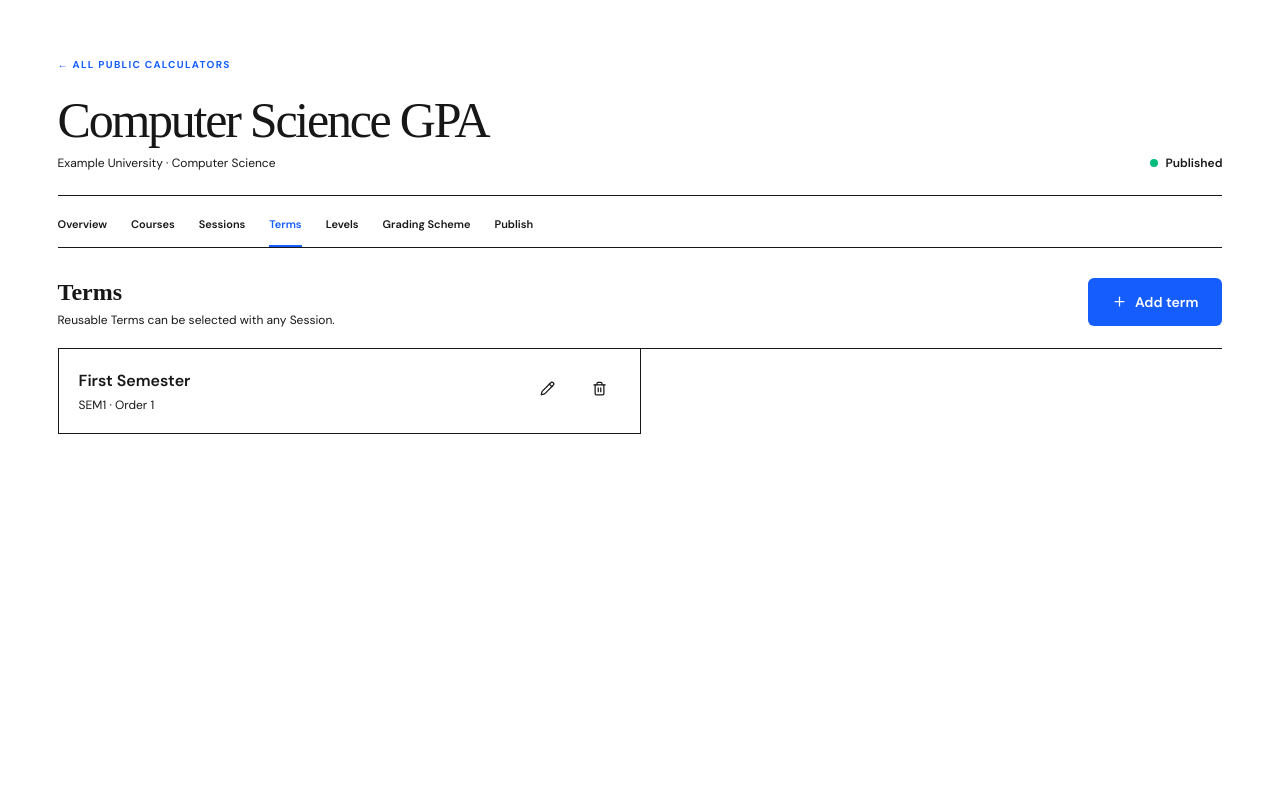
Scenario: public calculator management › uses reusable calculator-level Terms and retains a referenced Term after a 409
Expected: the text "Reusable Terms can be selected with any Session." is shown, [58,312,335,328]
Click the button named "Delete First Semester" at (600,389), box [580,369,620,409]
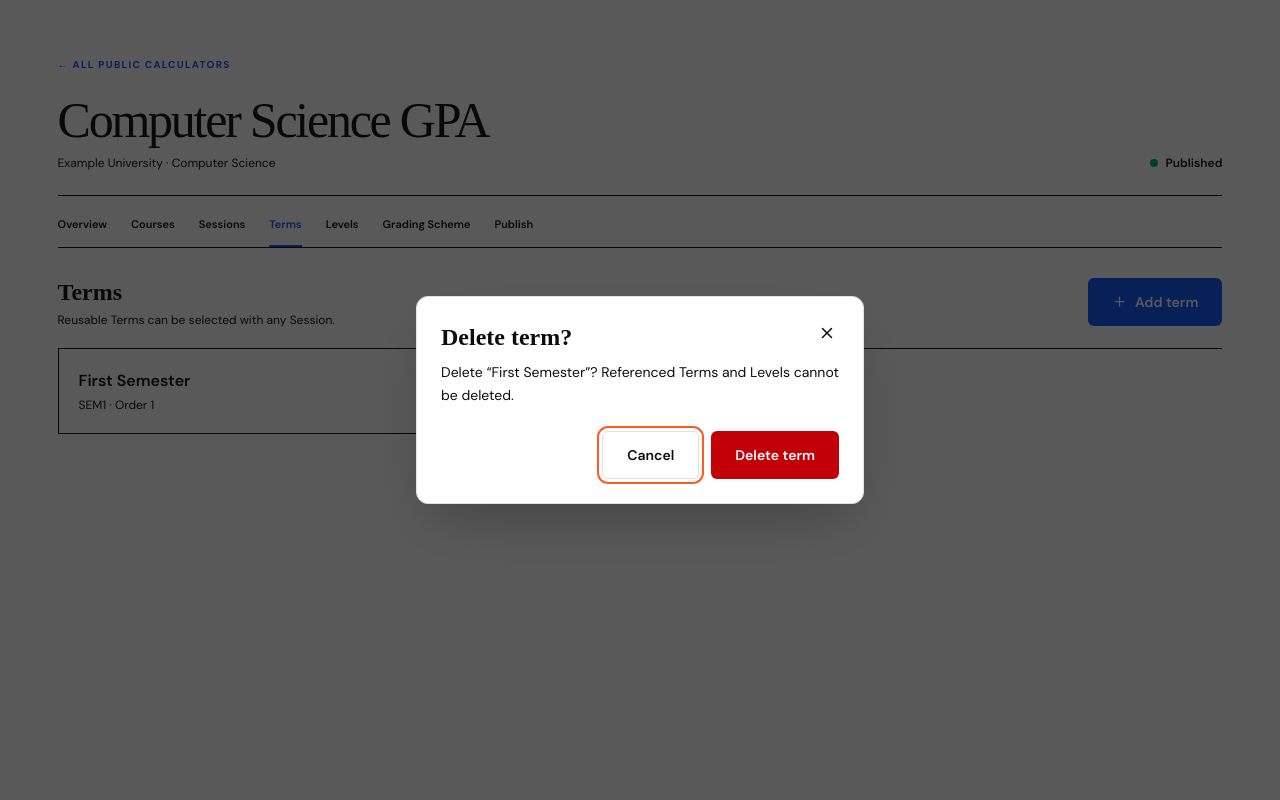
Click the button "Delete term" at (775,455), box [711,431,839,479]
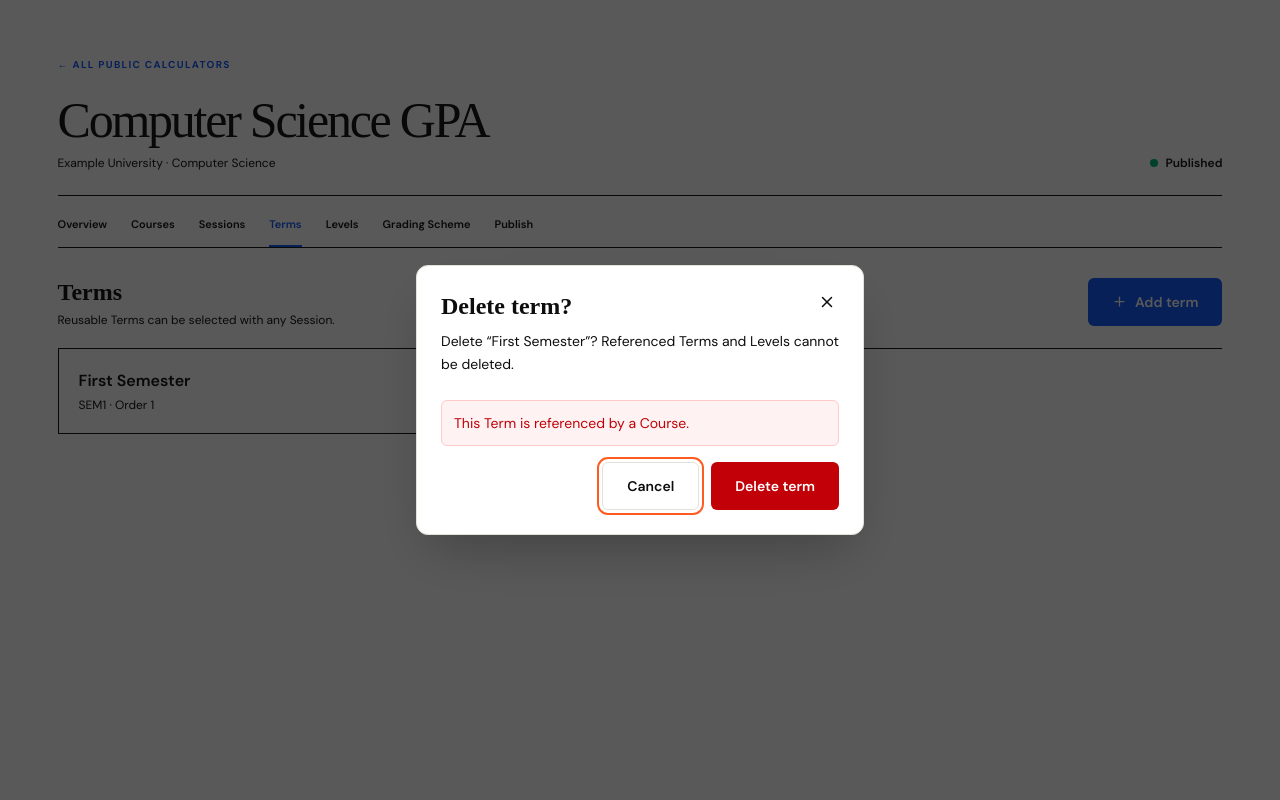
Expected: the heading "First Semester" is shown, [79,370,190,391]
Result: the text "This Term is referenced by a Course." is shown at [441,400,839,446]
